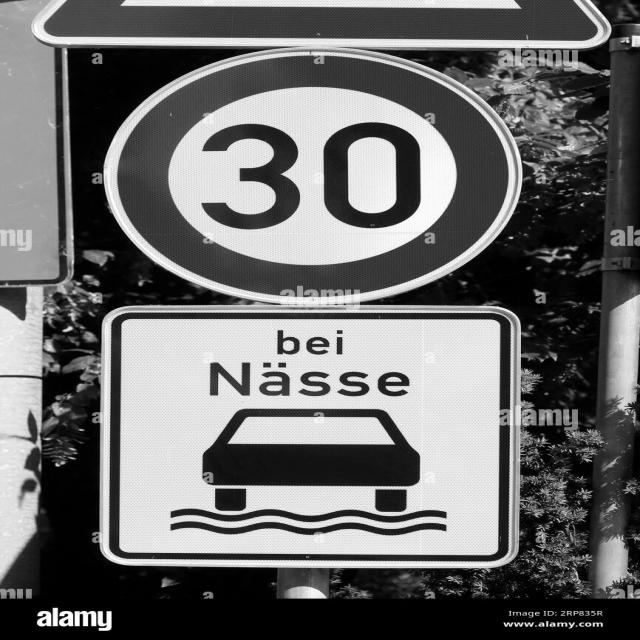speed_30: (101, 49, 523, 306)
